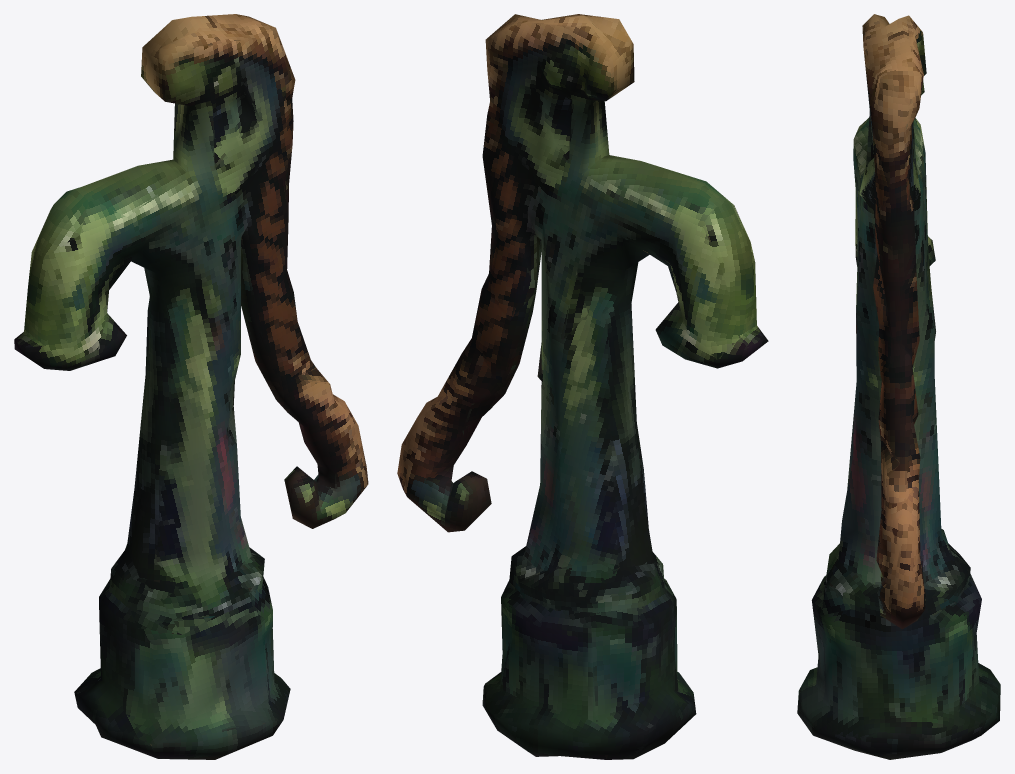
Rendered from pump-green.glb.
3 views of the same model, side by side, from view 1: azimuth 30°, elevation 25°; view 2: azimuth 150°, elevation 25°; view 3: azimuth 270°, elevation 25° (orthographic).
Parts seen in each view (by area): view 1: pump-212-8; view 2: pump-212-8; view 3: pump-212-8.
Part boxes in pixels (x1,y1,x2,y2): pump-212-8: [14, 14, 368, 759]; pump-212-8: [397, 14, 768, 759]; pump-212-8: [797, 14, 1000, 759].
Size of the model in its own units: 0.6696 by 1.3 by 0.3311.
Materials: 1 (1 with a texture image).
